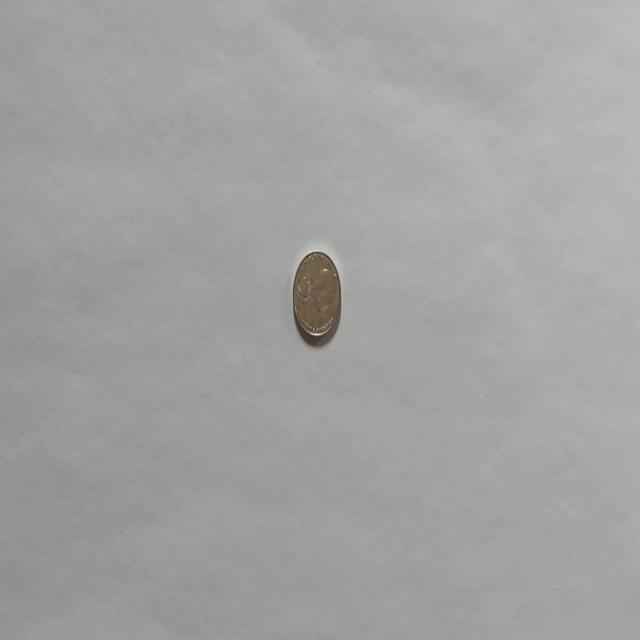lima ratus rupiah: (292, 249, 342, 343)
